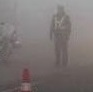person: (49, 5, 73, 69)
